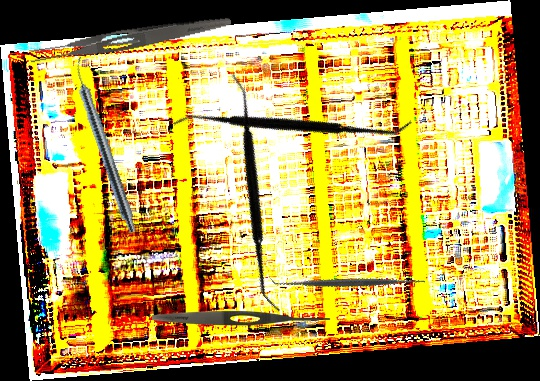Dressing Forceps: (27, 7, 233, 69), (152, 310, 331, 326)
Handpiece: (67, 55, 142, 235)
Spatula Surgical: (141, 71, 370, 313), (172, 19, 413, 227), (268, 201, 431, 364)
